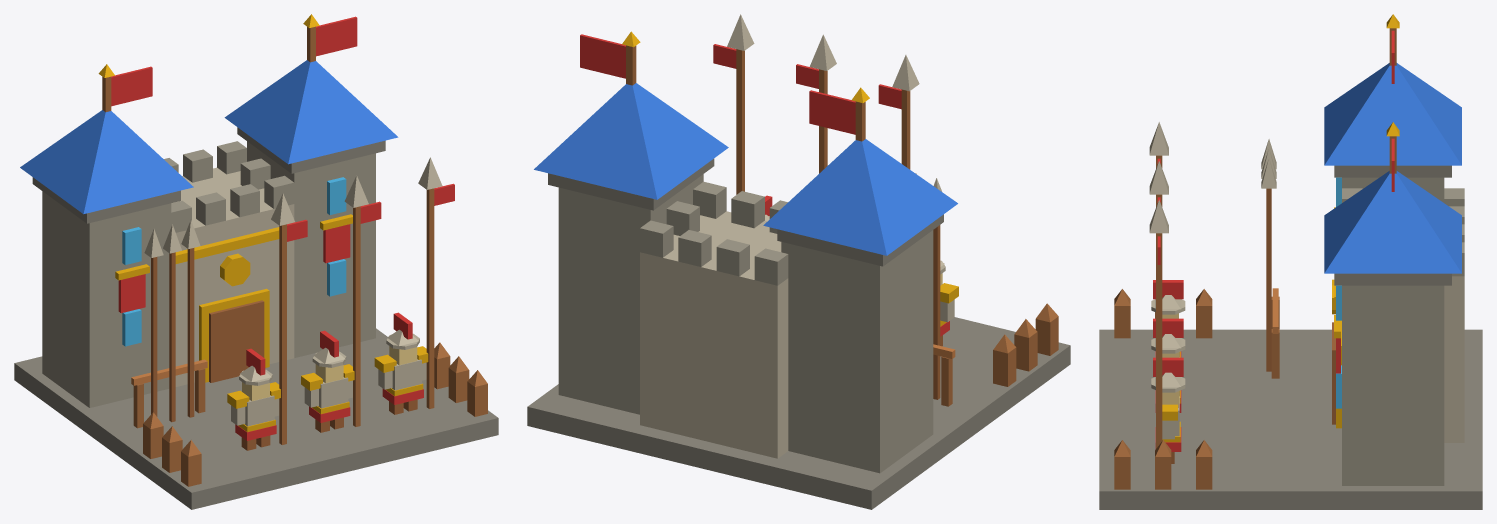
The model's file is barracks_t3_v2.glb.
The picture shows the model from 3 angles, left to right: view 1: azimuth 30°, elevation 25°; view 2: azimuth 150°, elevation 25°; view 3: azimuth 270°, elevation 25°; orthographic projection. The views are drawn at different scales.
Visible parts, largest first — view 1: barracks_t3_v2; view 2: barracks_t3_v2; view 3: barracks_t3_v2.
Boxes of the visible parts, x1,y1,x2,y2 form: barracks_t3_v2: (14,14,498,509); barracks_t3_v2: (527,14,1070,509); barracks_t3_v2: (1099,14,1482,509).
Bounding box in the file's own units: 0.77 × 0.78 × 0.75.
1 material, 1 textured.
